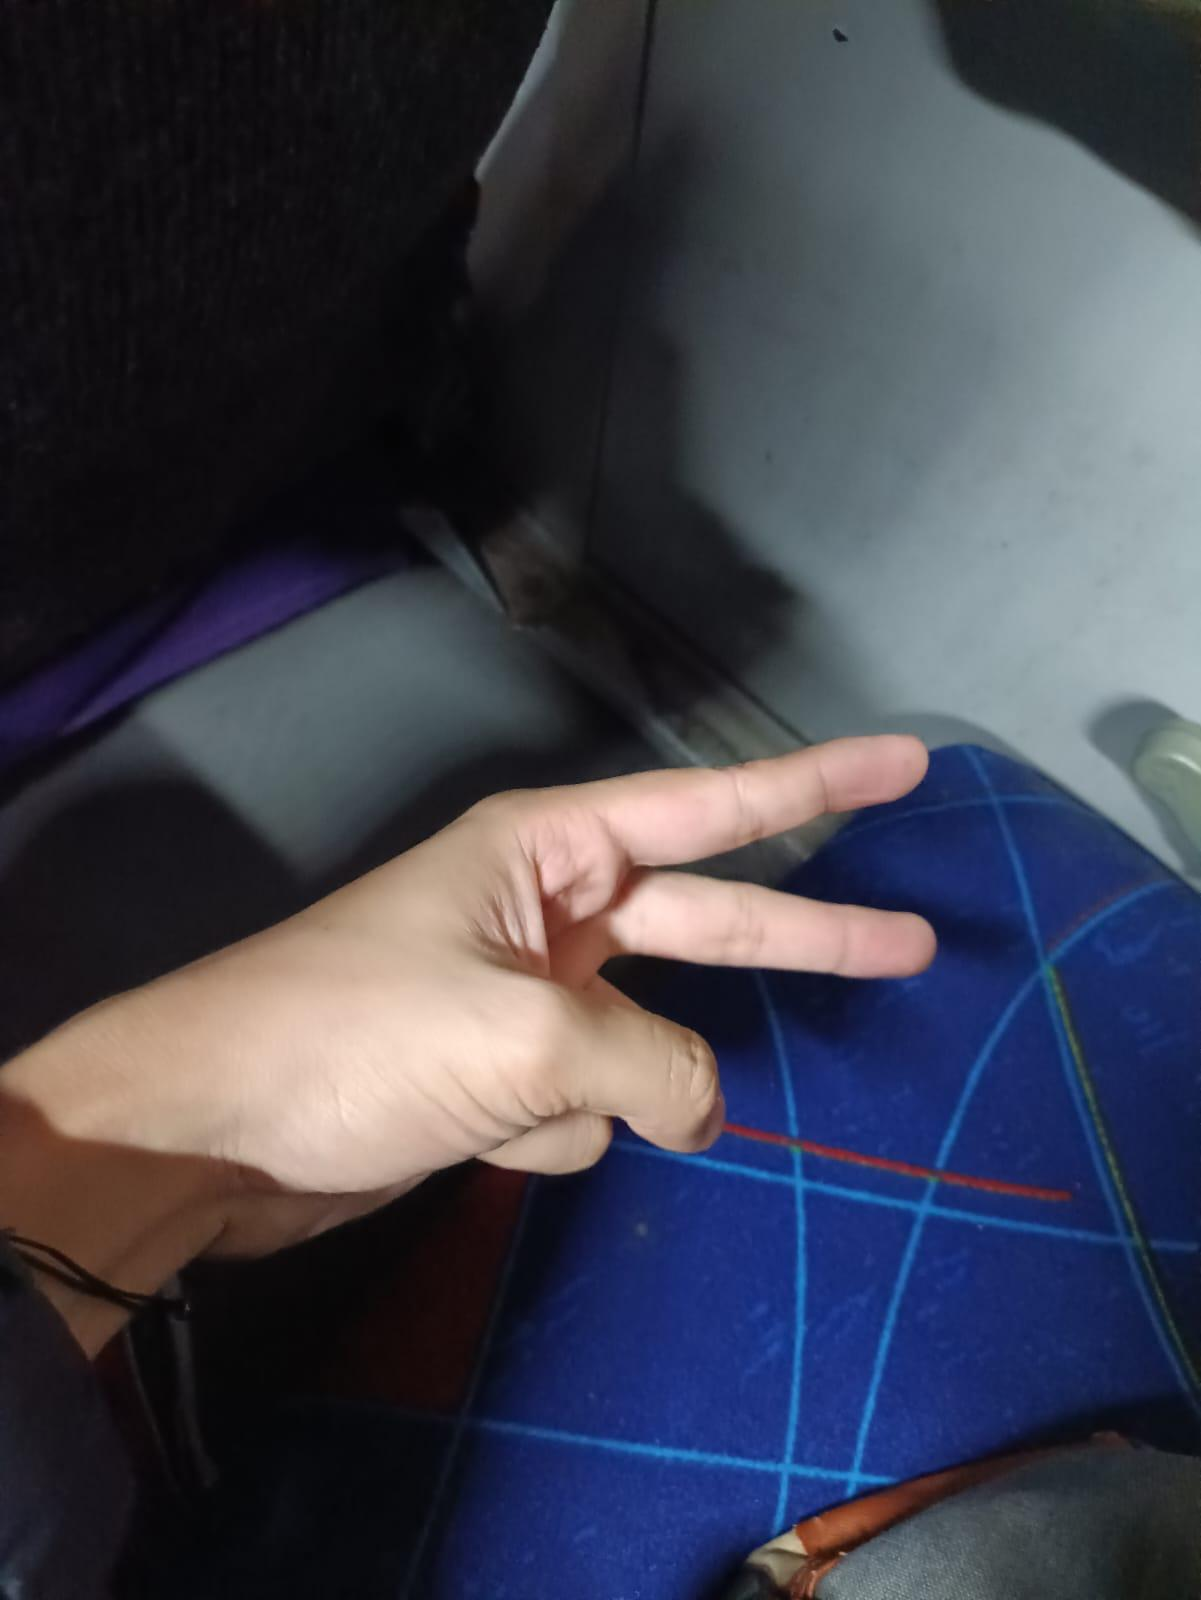Scissor: (0, 699, 1021, 1364)
